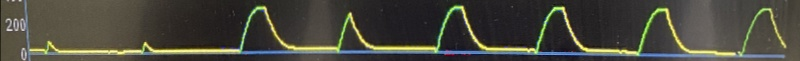normal_volume: (242, 0, 785, 61)
